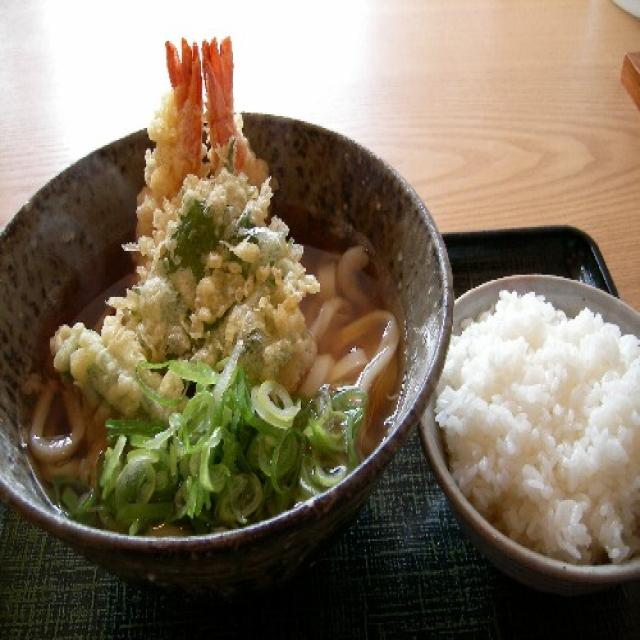面条主食: (15, 48, 412, 531)
